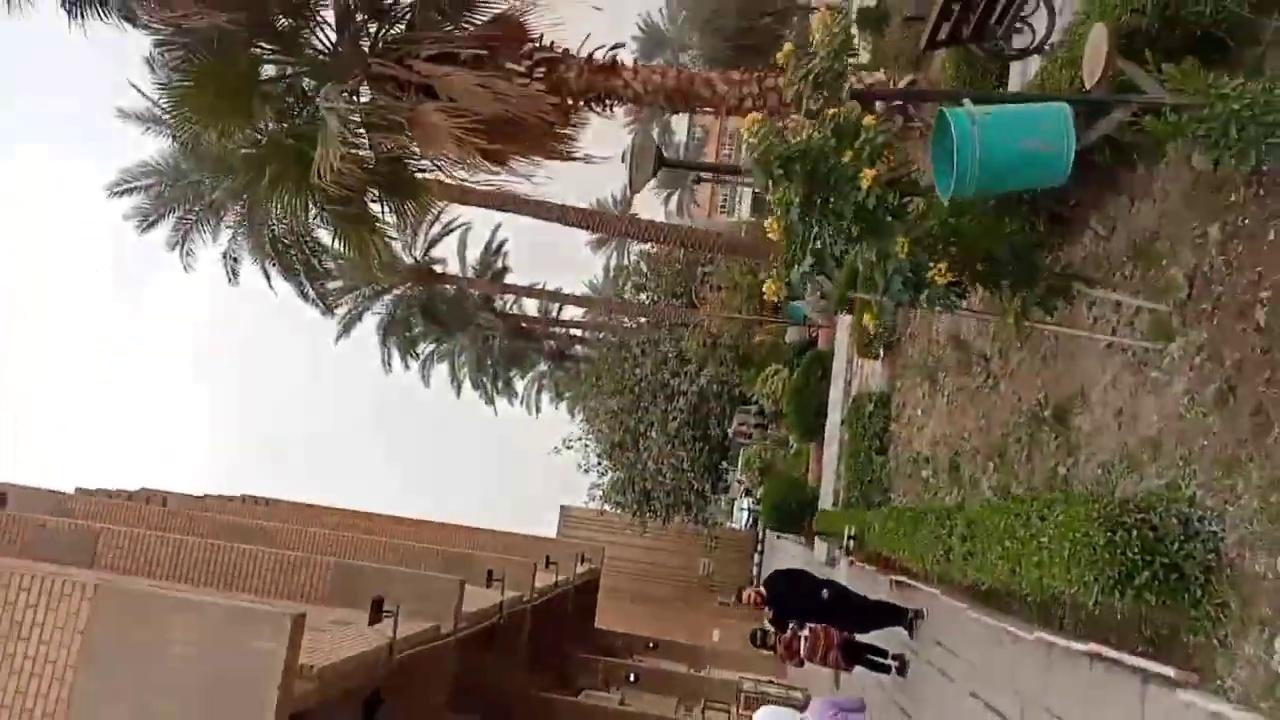person: (742, 567, 929, 640), (748, 619, 909, 679)
tree: (17, 0, 846, 529), (736, 3, 1058, 360), (541, 239, 772, 529)
